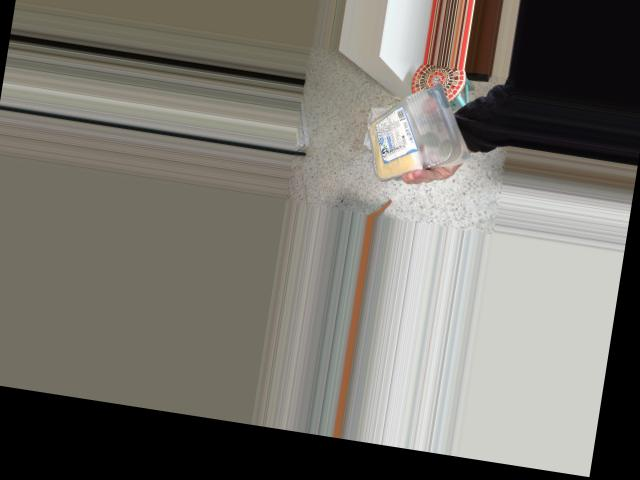cheese: (353, 71, 473, 179)
